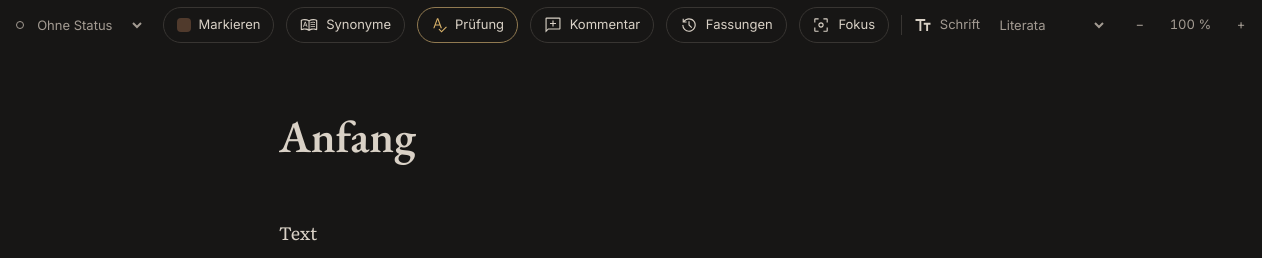
Test case: editing the title saves it and falls back to Unbenannt
This screenshot has width=1262, height=258.
Replace the text in the field named "Kapiteltitel" with "Prolog" at (633, 137), box [279,104,987,171]
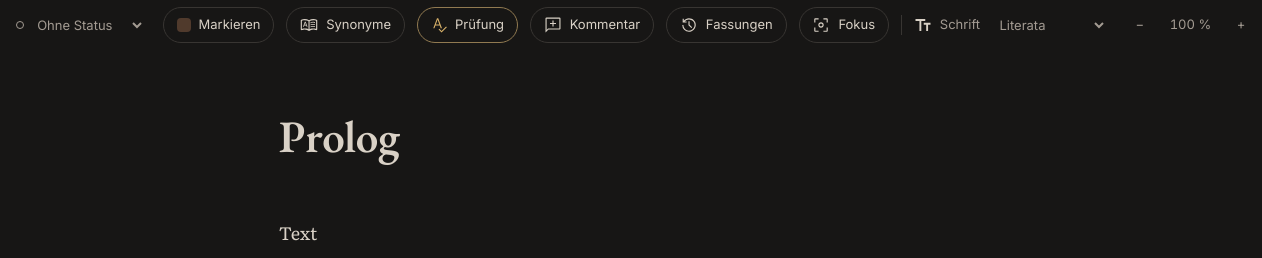
Clear the field named "Kapiteltitel" at (633, 137), box [279,104,987,171]
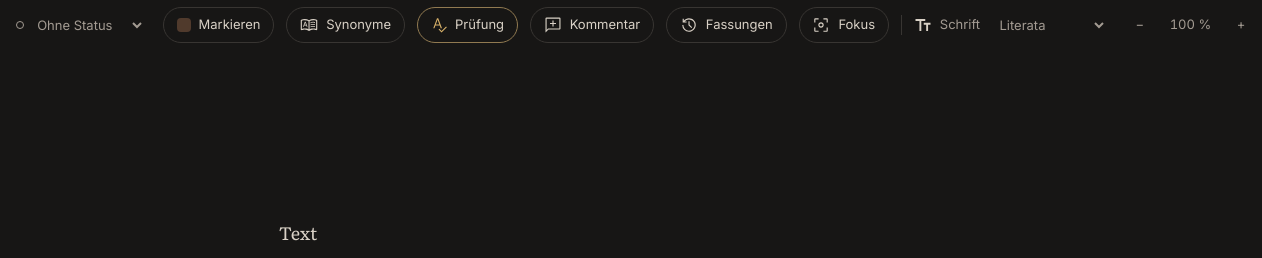
Press Tab
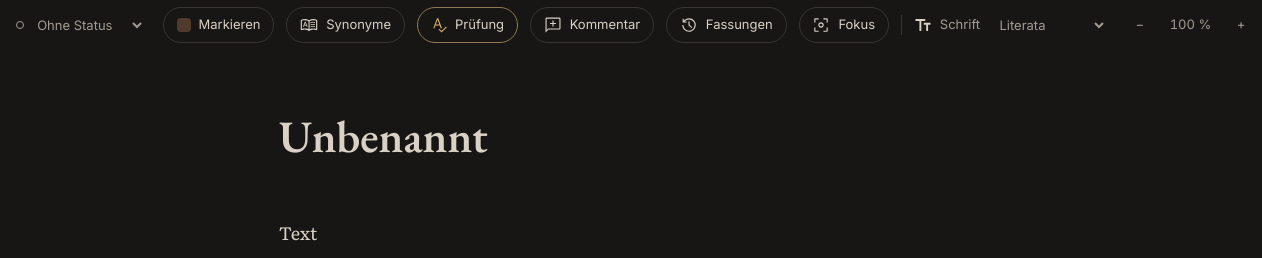
Now the field named "Kapiteltitel" holds "Unbenannt", box [279,104,987,171]
